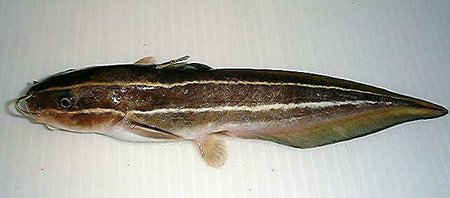gonzui: (9, 52, 450, 165)
